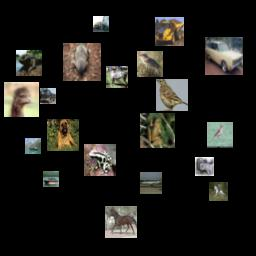airplane: (140, 172, 162, 194)
automobile: (205, 37, 243, 75)
bird: (63, 43, 101, 81), (4, 82, 39, 117), (156, 79, 188, 111), (207, 122, 233, 148), (137, 51, 163, 77)
dog: (47, 119, 79, 151)
frog: (140, 113, 175, 148), (84, 144, 116, 176), (16, 50, 42, 76)
ship: (25, 138, 41, 154), (43, 171, 59, 187)
truck: (155, 17, 184, 46), (195, 157, 214, 176), (40, 88, 56, 104), (93, 16, 109, 32)
